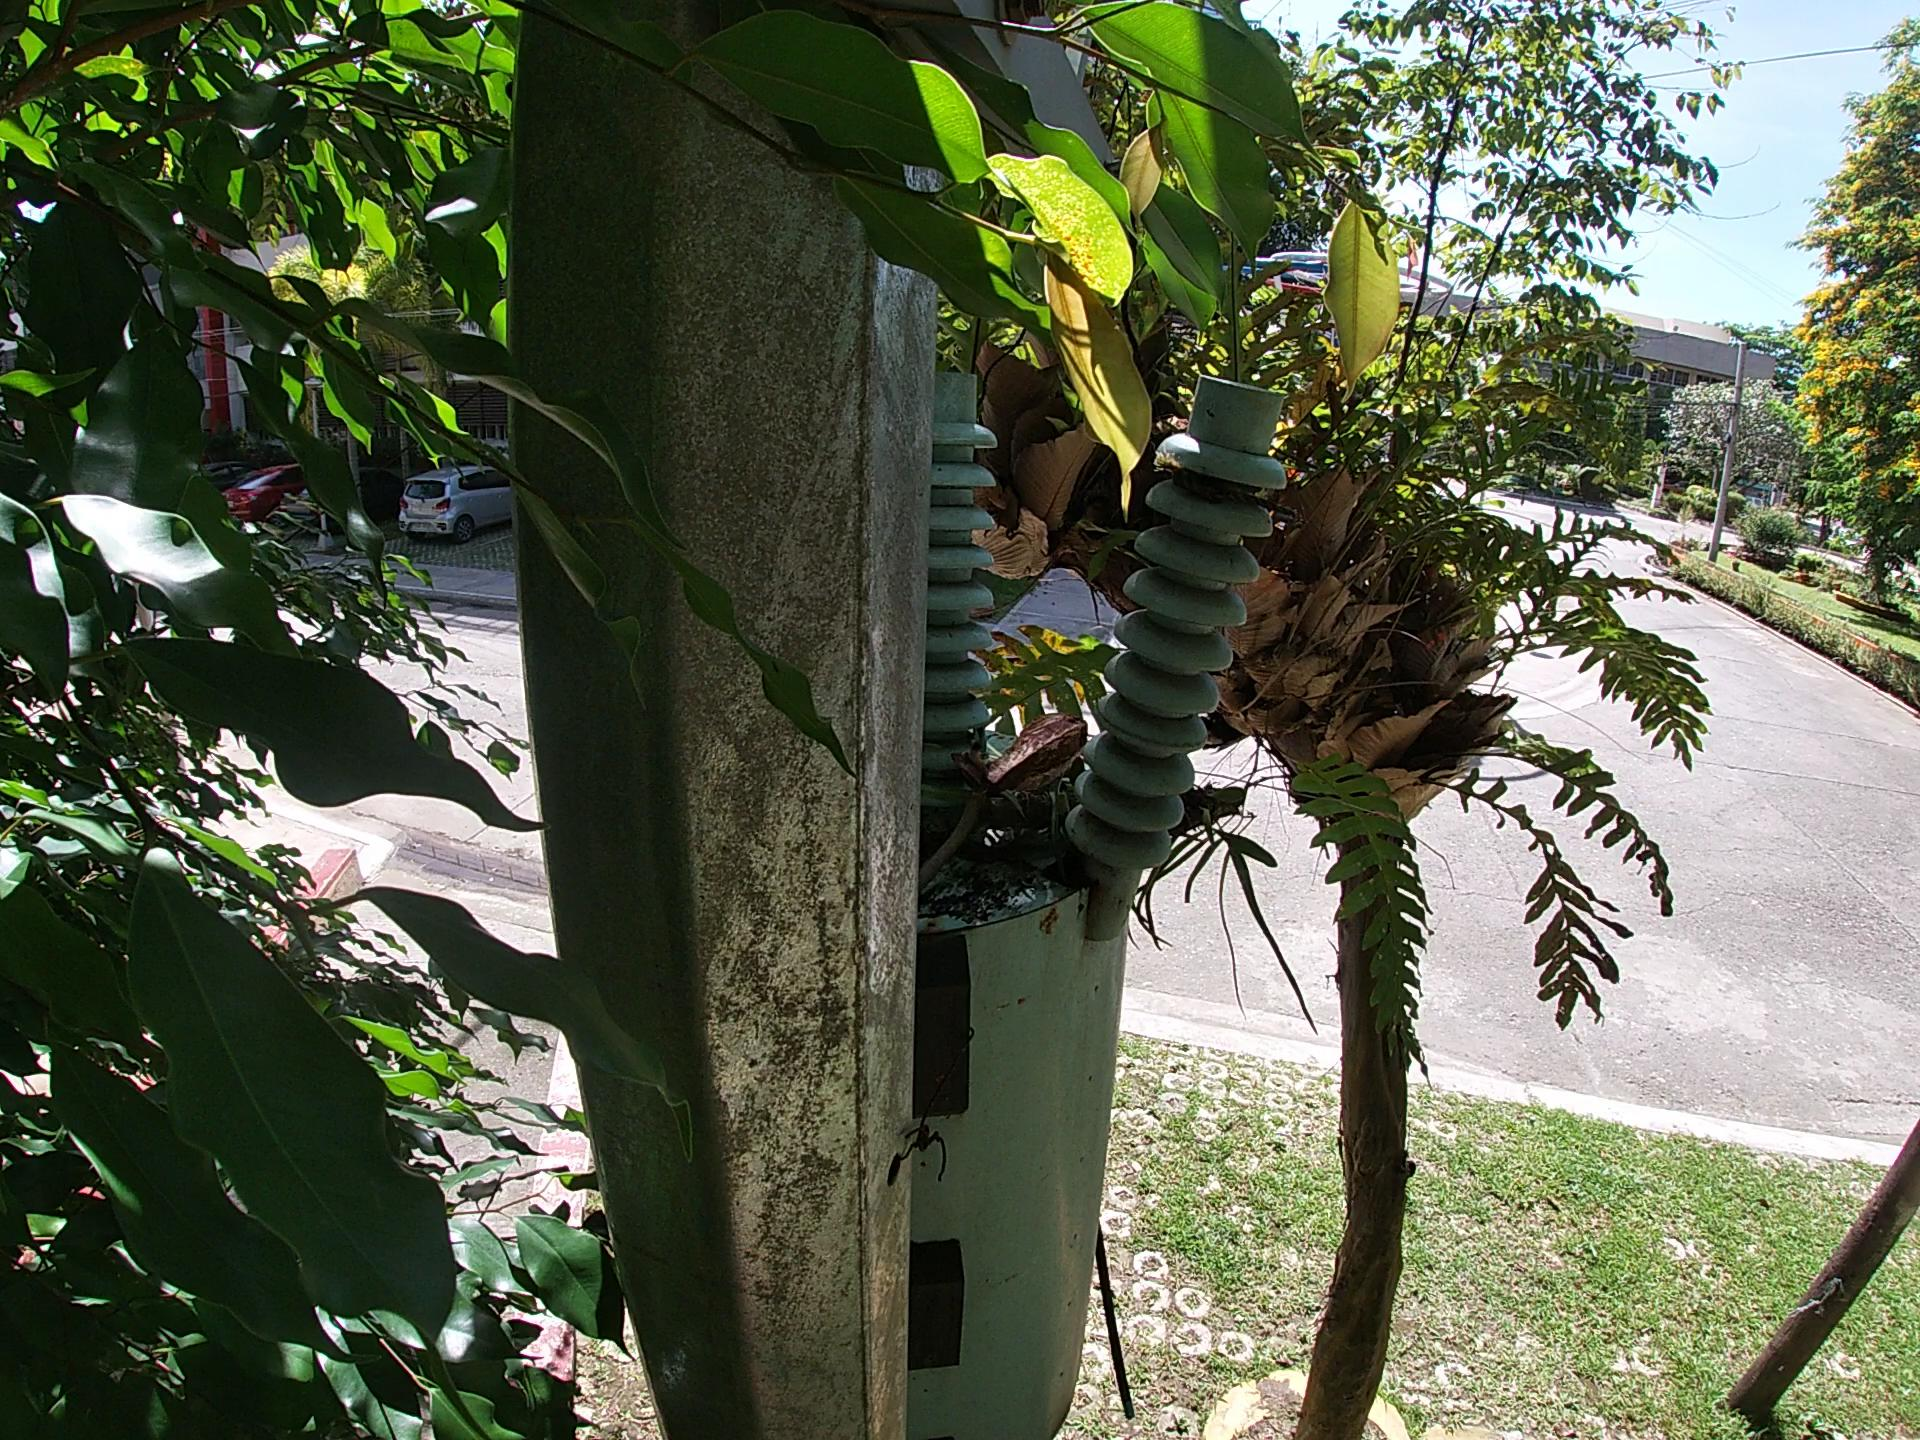branch with leaves: (906, 717, 1246, 900)
mahogany fruit: (897, 725, 1054, 833)
tree branch: (931, 765, 1020, 914)
